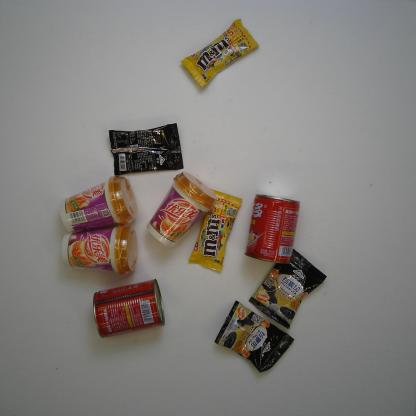Canned Food: (93, 278, 165, 339), (244, 194, 301, 264)
Chocolate: (179, 18, 259, 88), (189, 188, 244, 273)
Instant Drink: (249, 249, 327, 330), (214, 300, 295, 373), (146, 171, 218, 248), (58, 176, 139, 233), (108, 122, 184, 176), (61, 224, 138, 276)
